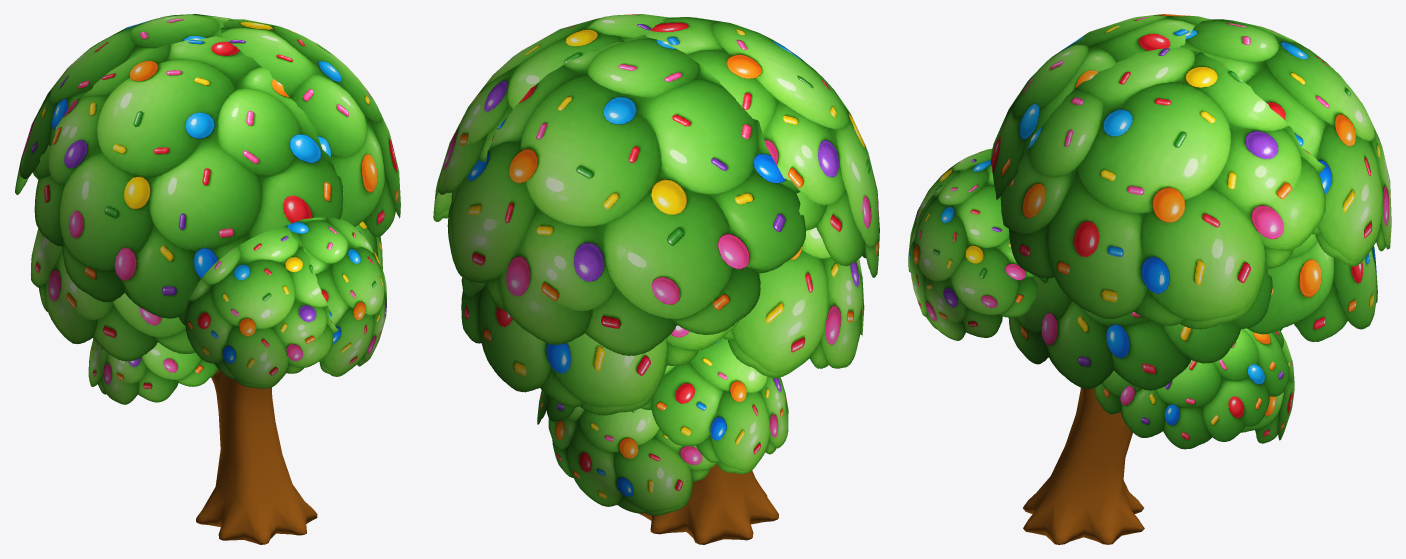
3 views of the same model, side by side, from view 1: azimuth 30°, elevation 25°; view 2: azimuth 150°, elevation 25°; view 3: azimuth 270°, elevation 25° (orthographic). The views are drawn at different scales.
Visible parts, largest first — view 1: tree_05.001; view 2: tree_05.001; view 3: tree_05.001.
Part boxes in pixels (<box>): tree_05.001: <box>15,14,400,544</box>; tree_05.001: <box>433,14,879,544</box>; tree_05.001: <box>908,14,1391,544</box>.
Size of the model in its own units: 0.9419 by 1.2 by 1.09.
Materials: 2 (1 with a texture image).
